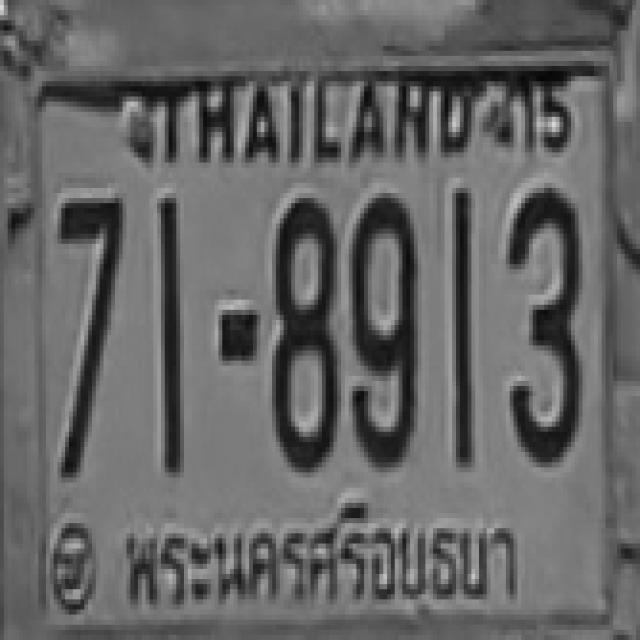3: (504, 183, 581, 462)
7: (58, 195, 122, 470), (58, 196, 122, 368)
8: (270, 193, 336, 467)
9: (349, 193, 414, 462)
Ayutthaya: (114, 496, 527, 623)
